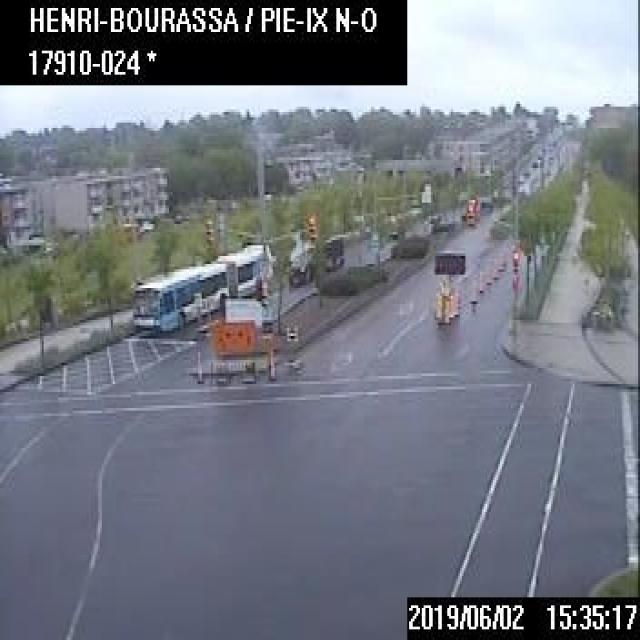bus: (127, 237, 275, 336)
construction: (209, 293, 276, 384), (431, 250, 464, 322), (469, 276, 476, 301), (434, 290, 440, 315), (443, 298, 449, 323), (452, 290, 457, 313), (477, 268, 482, 290), (484, 264, 490, 282), (497, 250, 502, 269), (492, 256, 496, 276)
vehicle: (287, 232, 344, 285)
